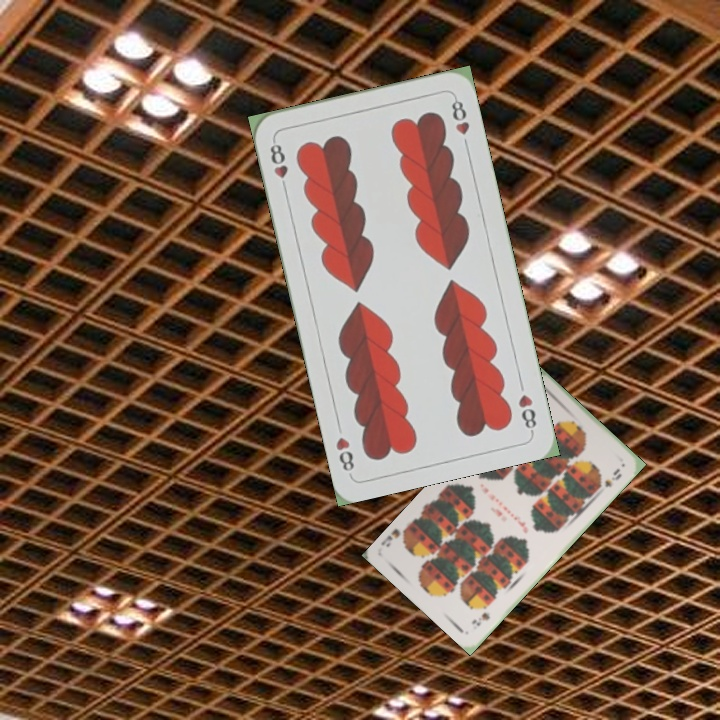H8: (266, 136, 291, 194), (514, 390, 539, 435)
S9: (468, 608, 492, 629)
